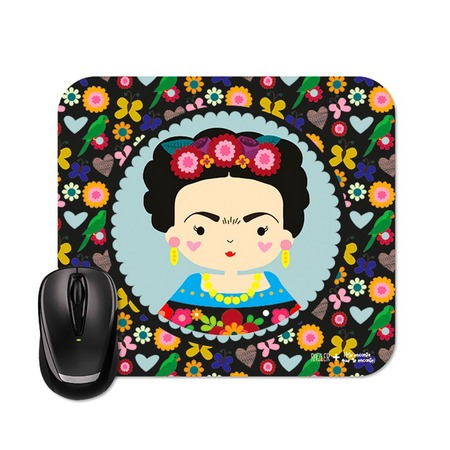mouse: (26, 264, 126, 401)
